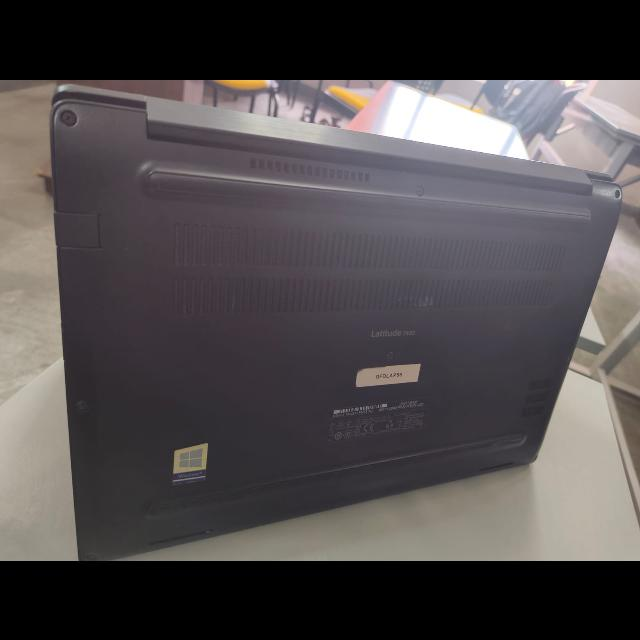laptop: (28, 96, 616, 546)
